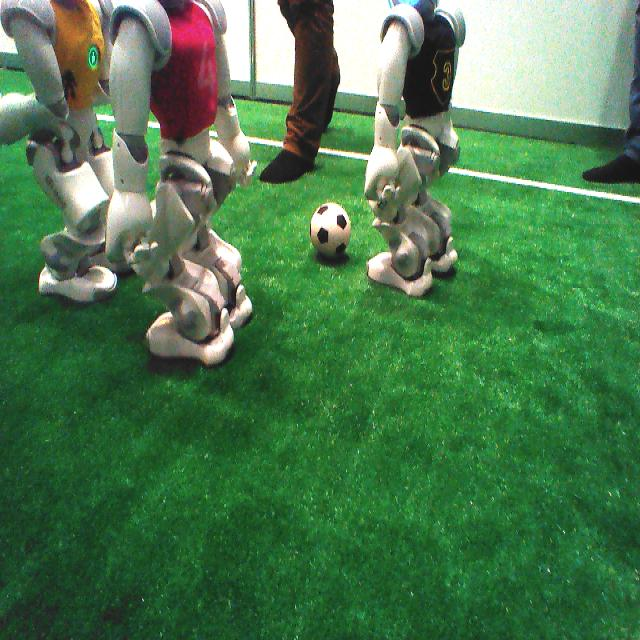ball: (304, 196, 359, 263)
